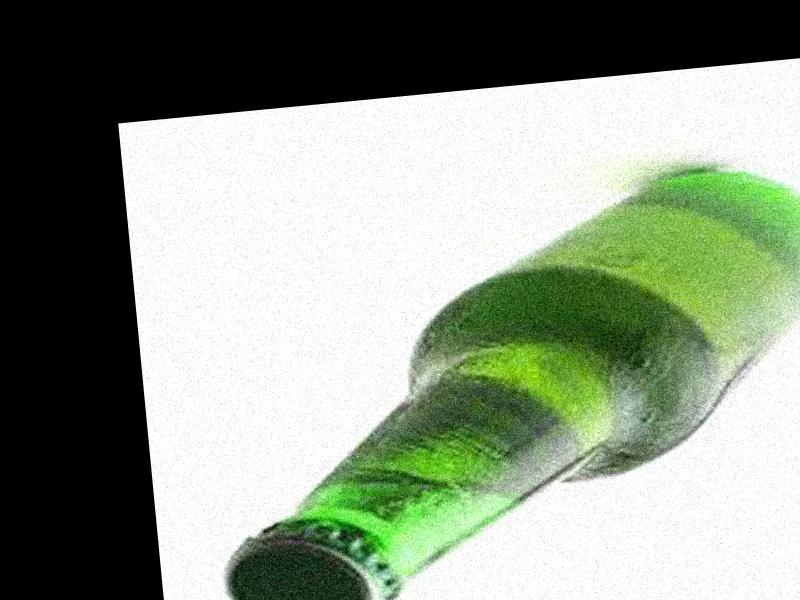Beer: (190, 155, 800, 600)
